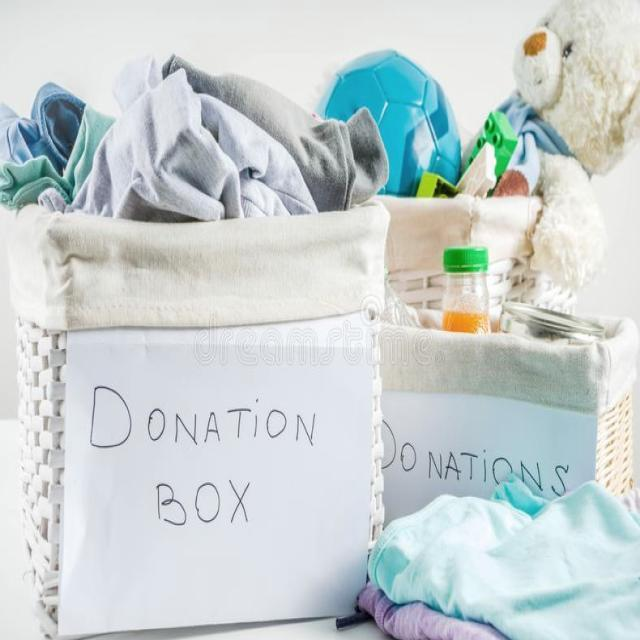clothes: (9, 130, 354, 214), (389, 532, 640, 640)
